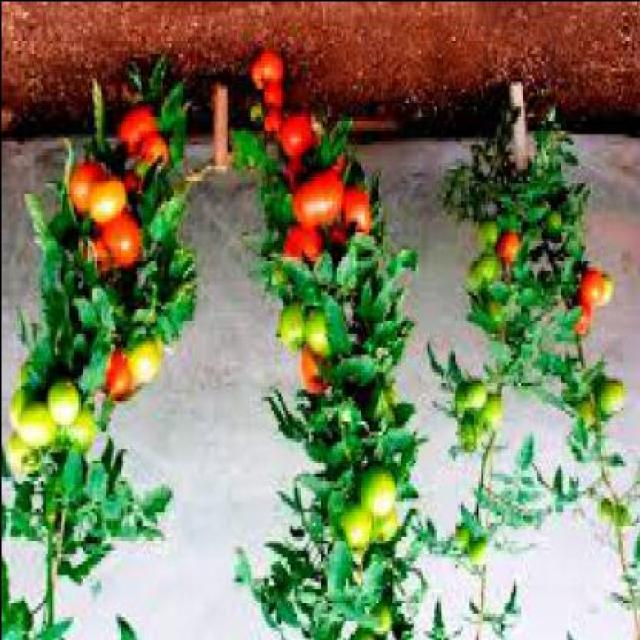BIODEGRADABLE: (290, 164, 344, 230), (328, 178, 370, 252), (100, 336, 142, 406), (102, 206, 142, 269), (119, 100, 161, 158), (128, 332, 166, 392), (280, 224, 326, 273), (18, 398, 56, 451), (360, 468, 398, 521), (72, 157, 102, 220), (282, 111, 322, 158), (88, 174, 128, 220), (62, 409, 98, 458), (304, 308, 336, 363), (2, 437, 38, 483), (275, 304, 307, 353), (340, 507, 372, 556), (138, 130, 170, 176), (598, 374, 628, 423), (302, 349, 330, 398), (49, 382, 80, 426), (470, 255, 501, 294), (372, 507, 400, 550), (578, 262, 602, 312), (472, 297, 503, 335), (251, 49, 284, 83), (498, 230, 522, 273), (456, 412, 479, 456), (482, 392, 504, 438), (568, 297, 590, 343), (456, 382, 487, 412), (12, 384, 30, 434), (368, 608, 395, 638), (121, 164, 144, 199), (259, 84, 286, 111), (263, 105, 286, 136), (547, 210, 565, 248), (468, 539, 489, 570), (598, 277, 617, 308), (580, 398, 595, 437), (454, 522, 472, 552), (249, 102, 263, 129), (617, 504, 631, 528), (602, 500, 615, 525)
